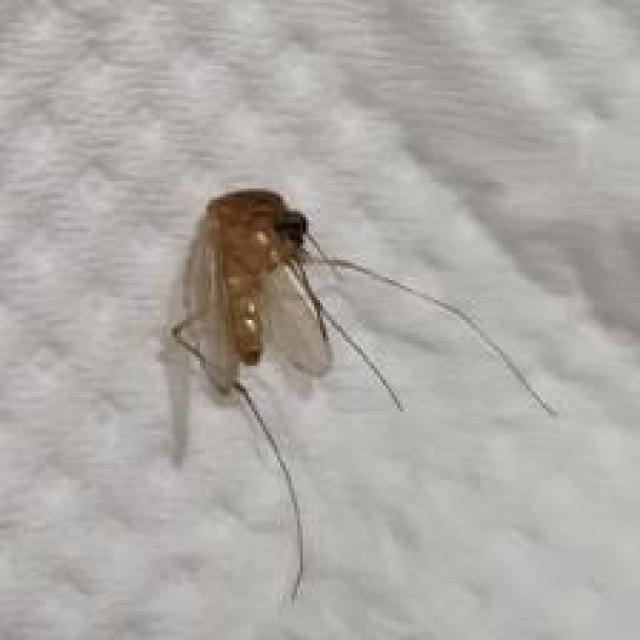Culex: (167, 187, 559, 604)
